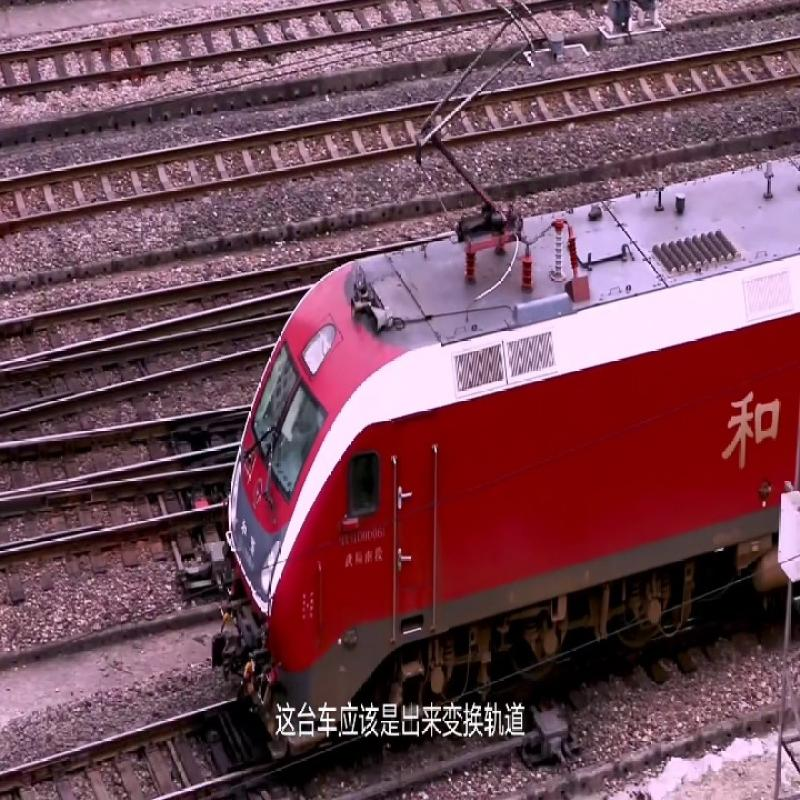train: (222, 260, 800, 688)
